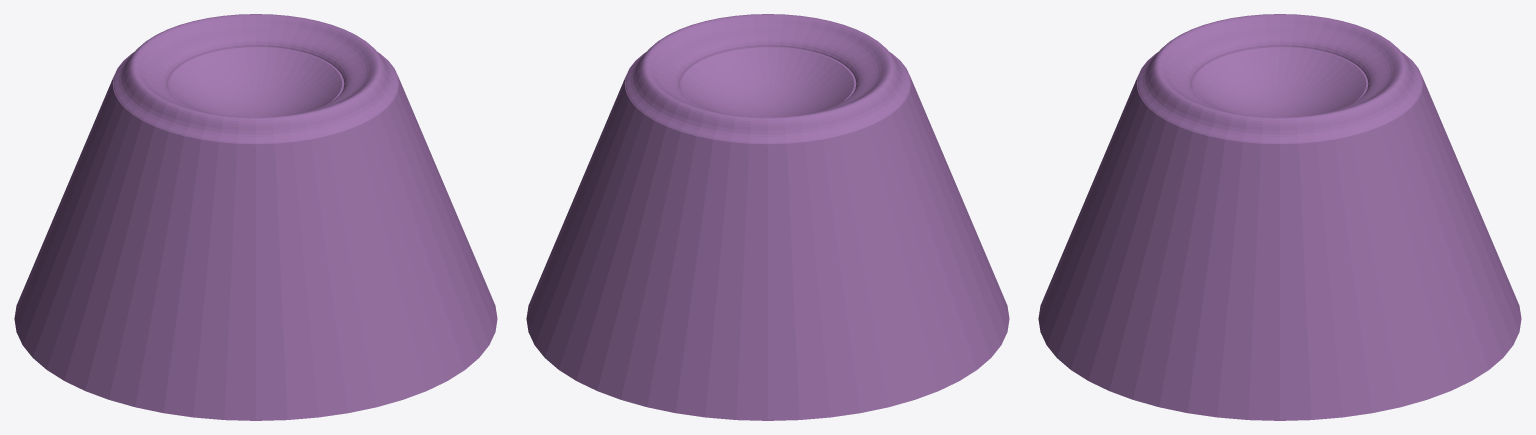
File: crater_with_cone.glb
3 views of the same model, side by side, from view 1: azimuth 30°, elevation 25°; view 2: azimuth 150°, elevation 25°; view 3: azimuth 270°, elevation 25° (orthographic).
Visible parts, largest first — view 1: Mesh_Mesh_head_geo.001_lambert2SG.001; view 2: Mesh_Mesh_head_geo.001_lambert2SG.001; view 3: Mesh_Mesh_head_geo.001_lambert2SG.001.
Part boxes in pixels (box(x1,y1,x2,y2)): Mesh_Mesh_head_geo.001_lambert2SG.001: box(14, 14, 497, 420); Mesh_Mesh_head_geo.001_lambert2SG.001: box(526, 14, 1009, 420); Mesh_Mesh_head_geo.001_lambert2SG.001: box(1038, 14, 1521, 420).
Size of the model in its own units: 0.175 by 0.101 by 0.175.
